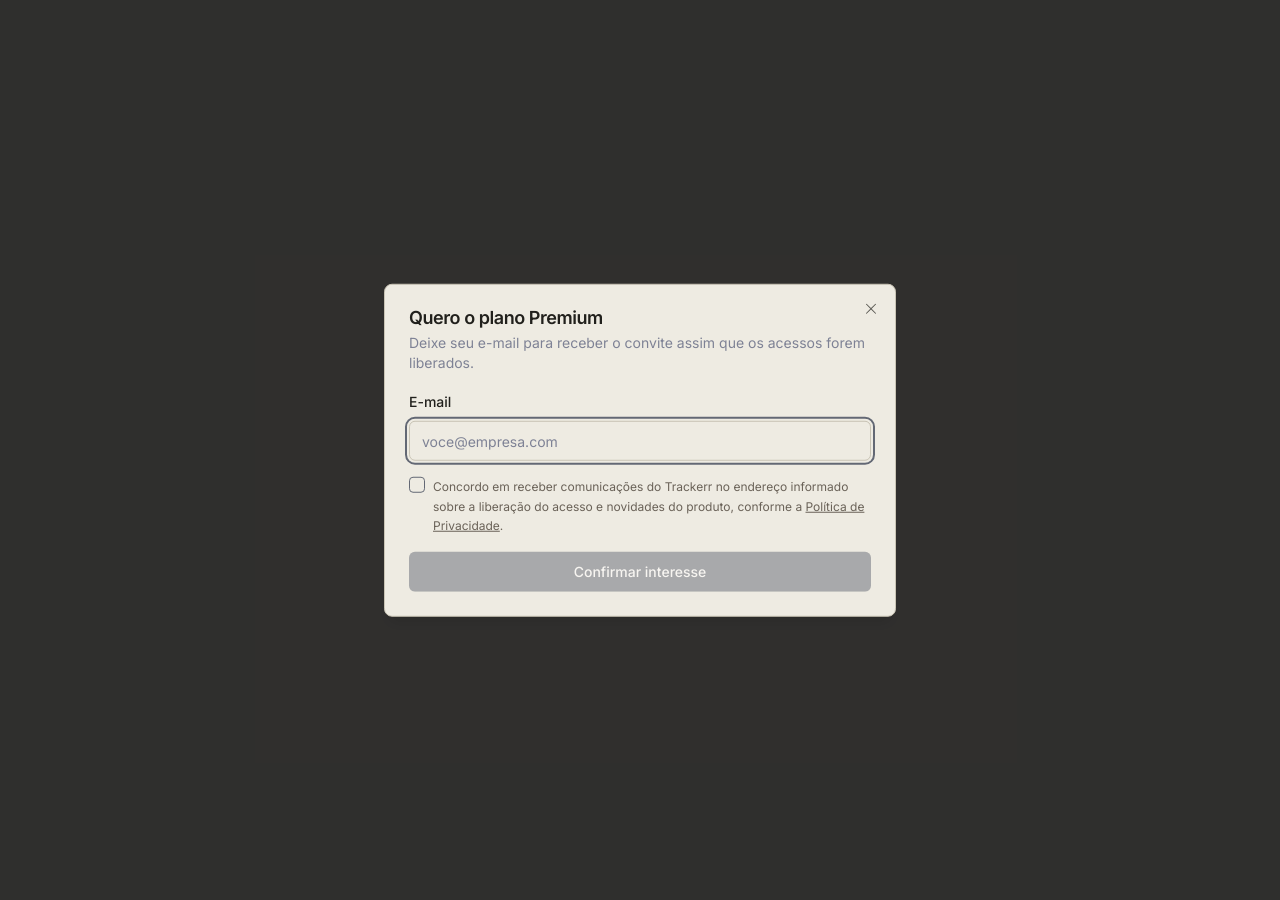
it: PurchaseIntentModal › submits the email and plan id, then shows a confirmation message on success
Type "investidor@example.com" into the field labelled "E-mail" at [640, 441], box [409,421,871,461]
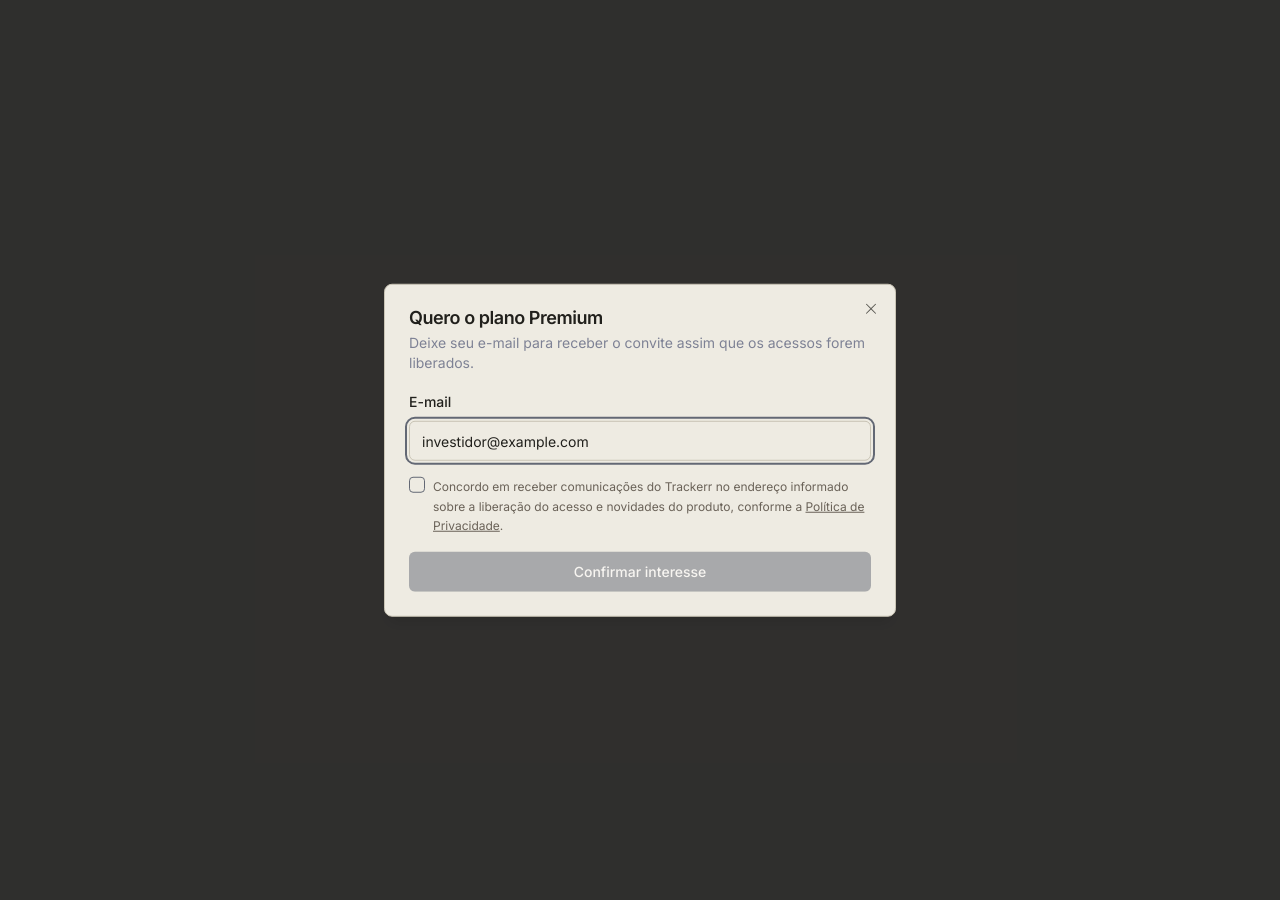
Click the checkbox at [417, 485], box [409,477,425,493]
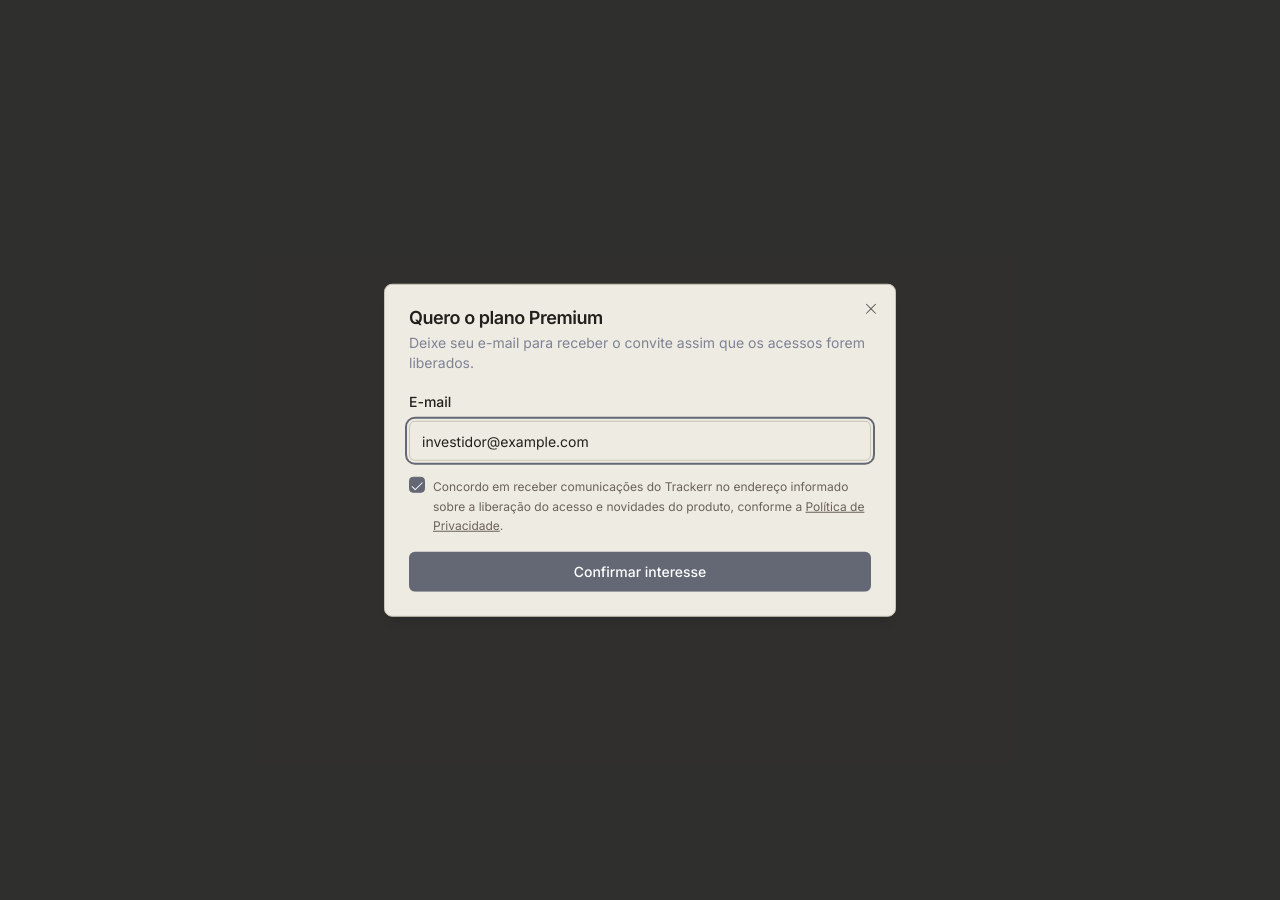
Click the button "Confirmar interesse" at [640, 571], box [409,551,871,591]
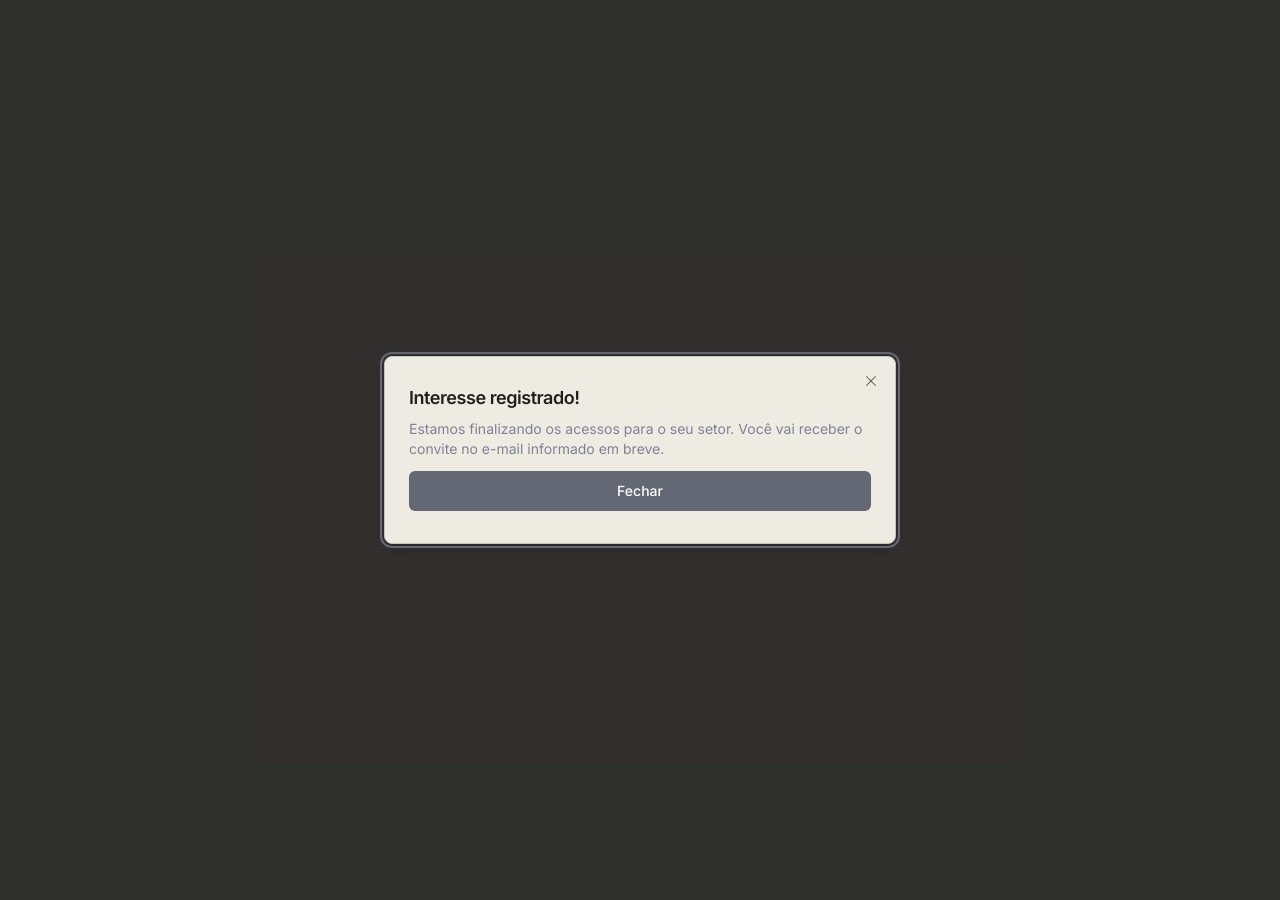
Check: the text "finalizando os acessos" is shown, box [409,420,862,457]
